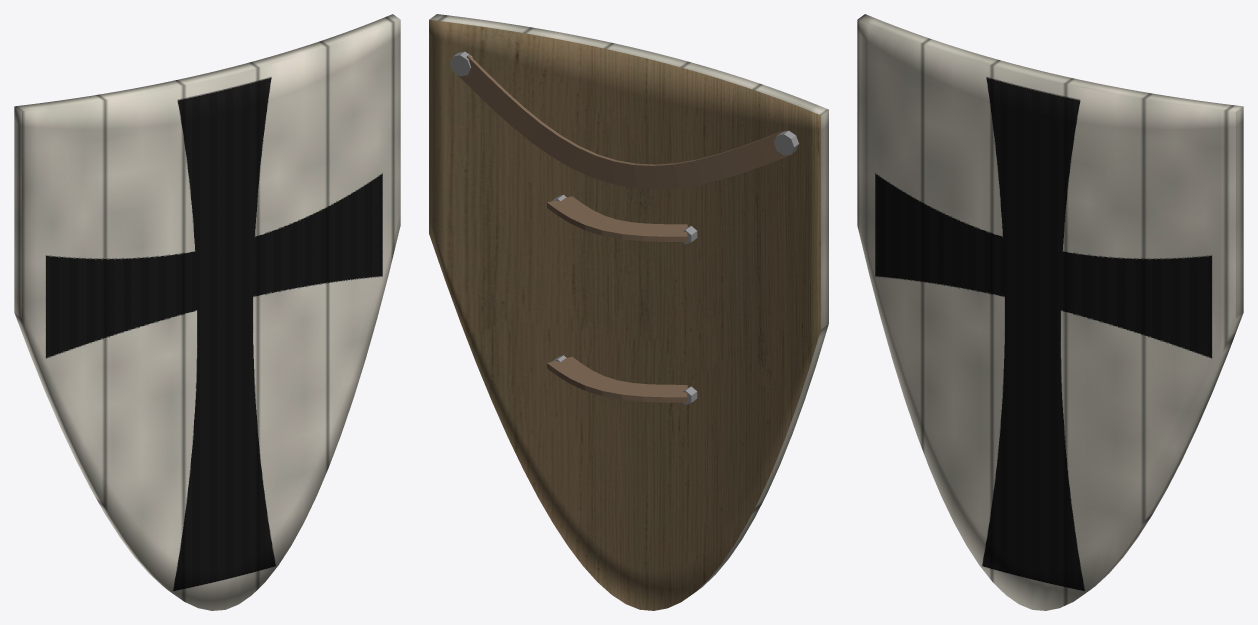
Rendered from heater_order_p3_w0.glb.
3 renders of one model, left to right at view 1: azimuth 30°, elevation 25°; view 2: azimuth 150°, elevation 25°; view 3: azimuth 330°, elevation 25°, orthographic. The views are drawn at different scales.
Parts seen in each view (by area): view 1: heater_order_p3_w0; view 2: heater_order_p3_w0; view 3: heater_order_p3_w0.
Part boxes in pixels (<box>): heater_order_p3_w0: <box>14,14,400,610</box>; heater_order_p3_w0: <box>429,14,828,610</box>; heater_order_p3_w0: <box>857,14,1243,610</box>.
Bounding box in the file's own units: 0.46 × 0.62 × 0.092.
Materials: 4 (2 with a texture image).
